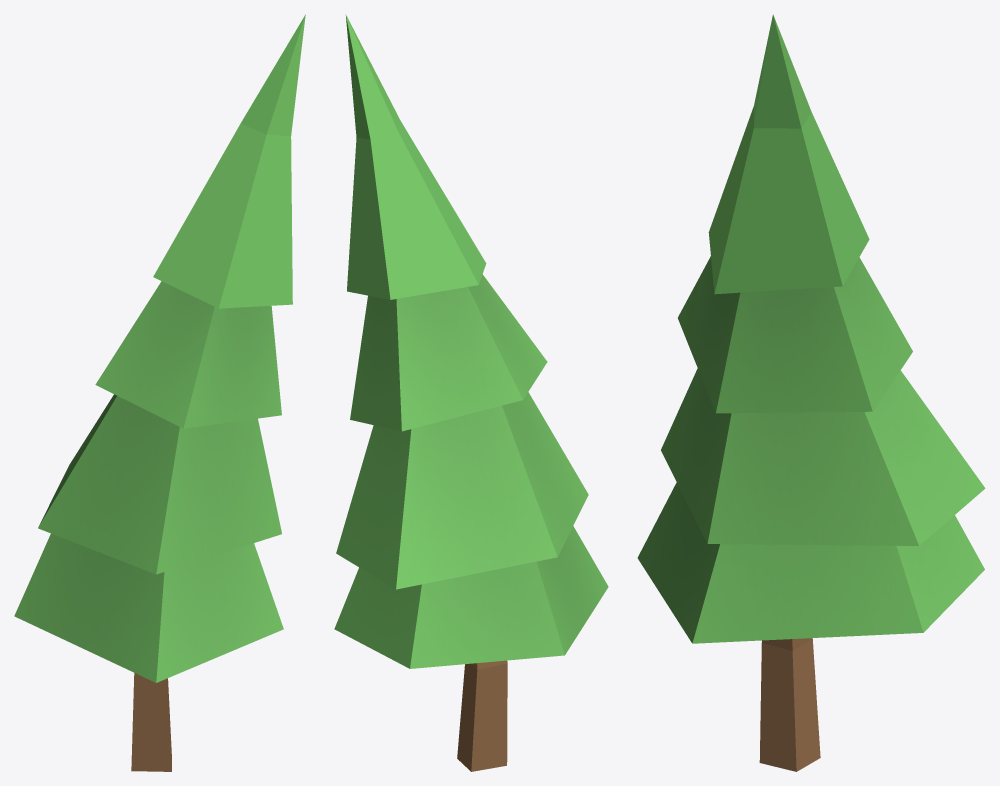
The model's file is Fir_Tree_OneSided_m_12.fbx.
3 renders of one model, left to right at view 1: azimuth 30°, elevation 25°; view 2: azimuth 150°, elevation 25°; view 3: azimuth 270°, elevation 25°, orthographic. The views are drawn at different scales.
Visible parts, largest first — view 1: Fir_Tree_OneSided_m_12; view 2: Fir_Tree_OneSided_m_12; view 3: Fir_Tree_OneSided_m_12.
Boxes of the visible parts, left/top/right/bottom form: Fir_Tree_OneSided_m_12: left=14, top=14, right=305, bottom=771; Fir_Tree_OneSided_m_12: left=334, top=14, right=608, bottom=771; Fir_Tree_OneSided_m_12: left=637, top=14, right=985, bottom=771.
Bounding box in the file's own units: 175 × 468 × 178.
